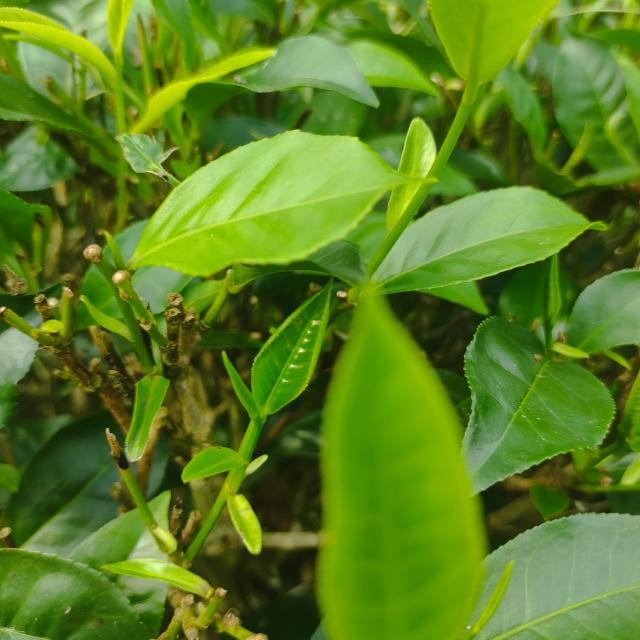unopened_leaf: (210, 345, 269, 430), (539, 248, 568, 331)
